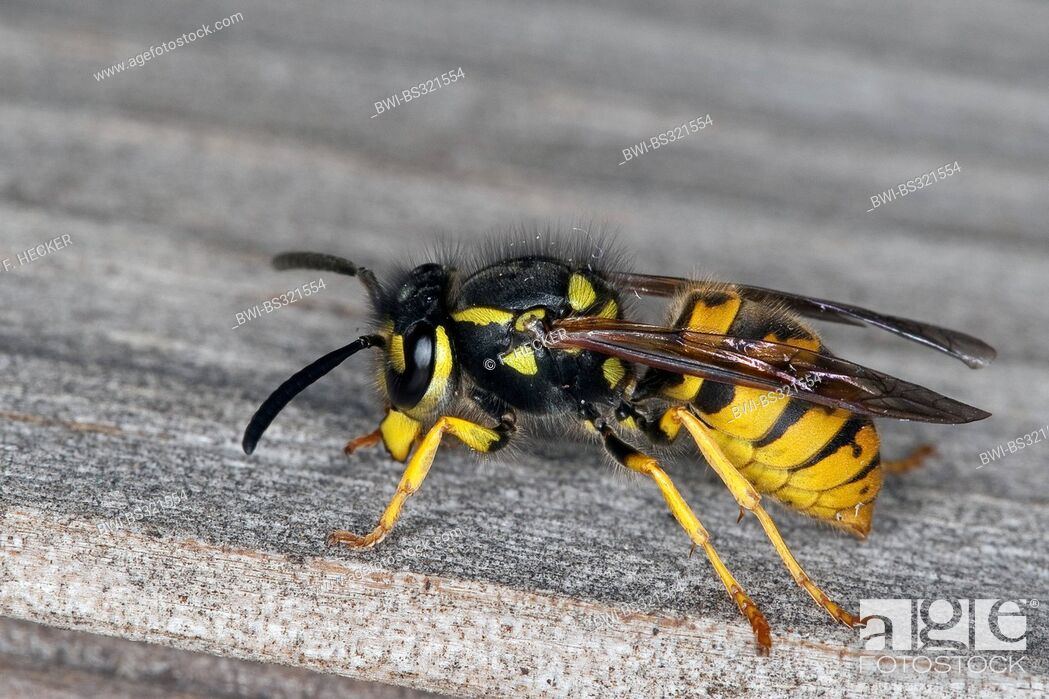chax: (235, 231, 920, 635)
